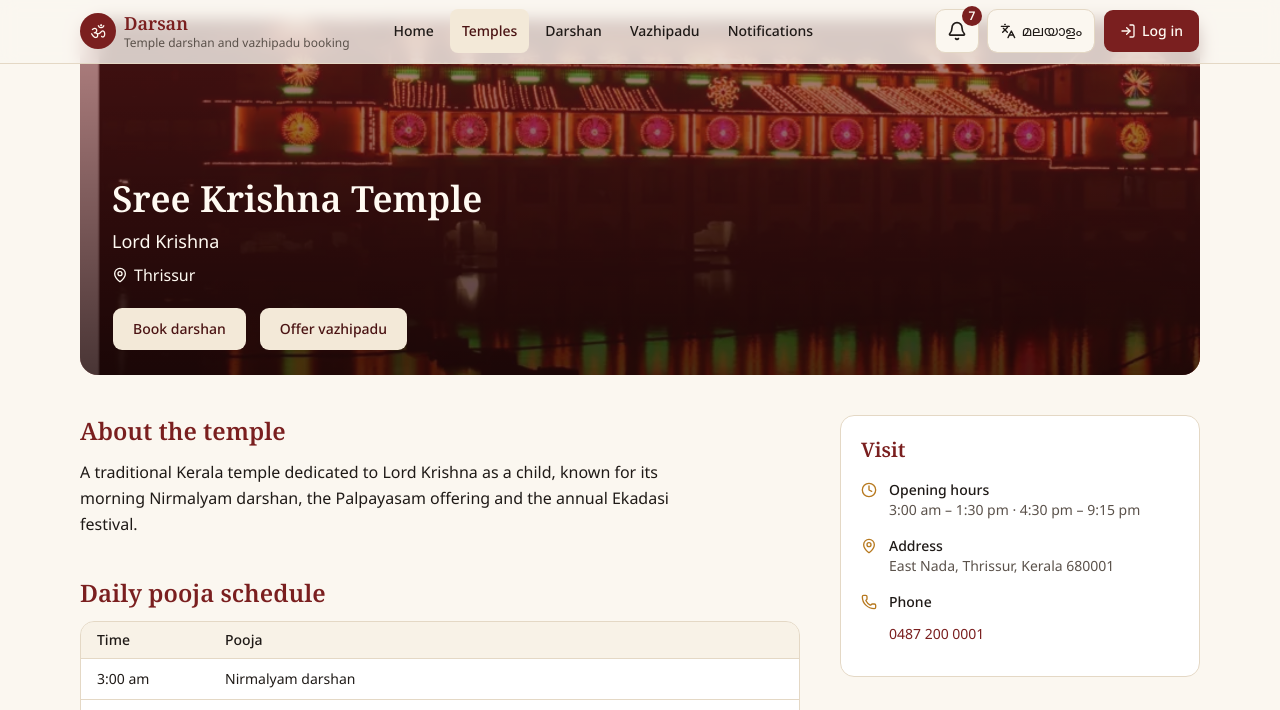
Language › switches the interface and temple data to Malayalam, and remembers the choice
(page scrolled)
Expected: the heading "Sree Krishna Temple" is shown, top-left (112, 174), bottom-right (482, 222)
Click the button with aria-label "Switch to Malayalam" at (1041, 31), box top-left (987, 9), bottom-right (1095, 53)
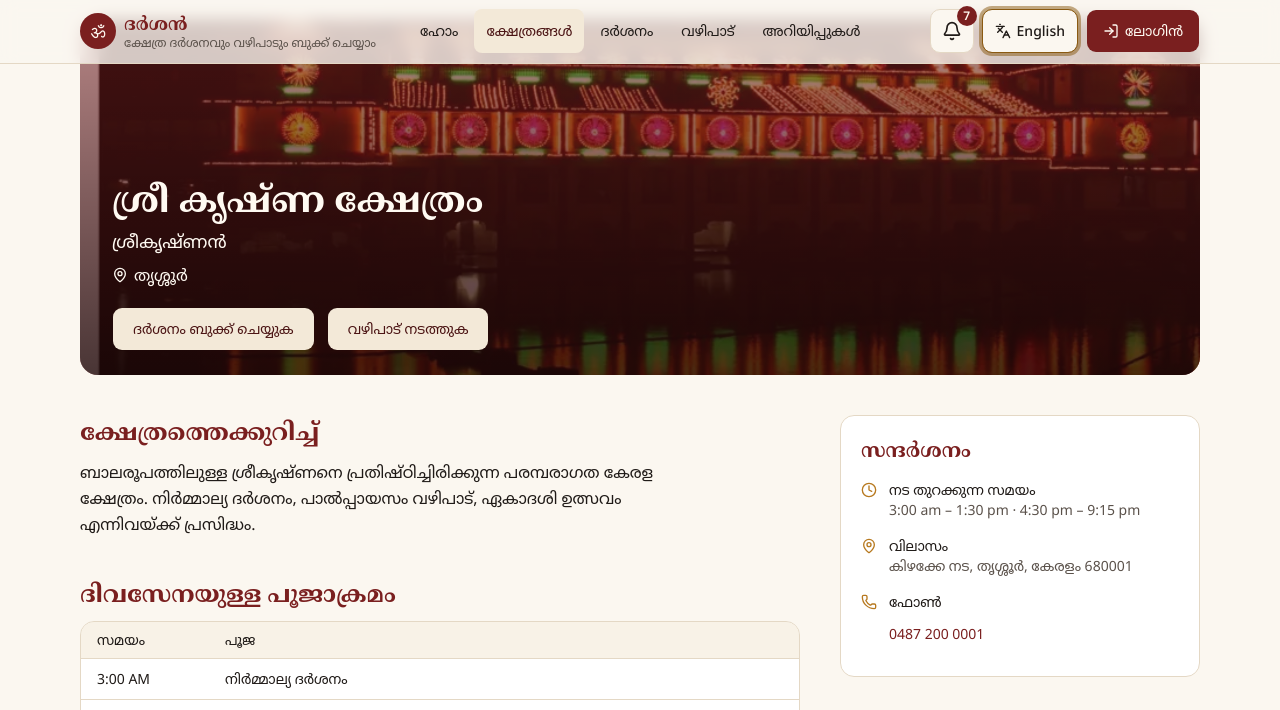
Expected: the heading "ശ്രീ കൃഷ്ണ ക്ഷേത്രം" is shown, top-left (112, 174), bottom-right (484, 222)
Expected: the heading "ദിവസേനയുള്ള പൂജാക്രമം" is shown, top-left (80, 576), bottom-right (396, 608)
Click the button with aria-label "Switch to English" at (1030, 31), box top-left (982, 9), bottom-right (1078, 53)
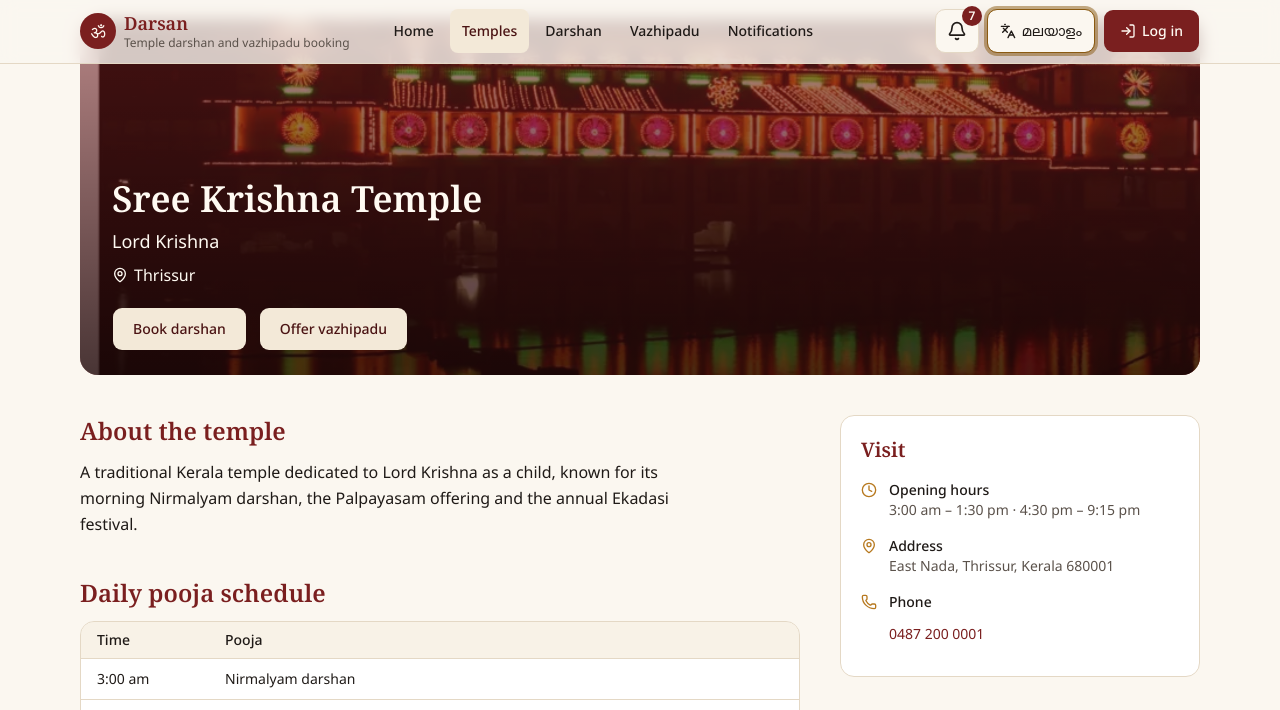
Expected: the heading "Sree Krishna Temple" is shown, top-left (112, 174), bottom-right (482, 222)
